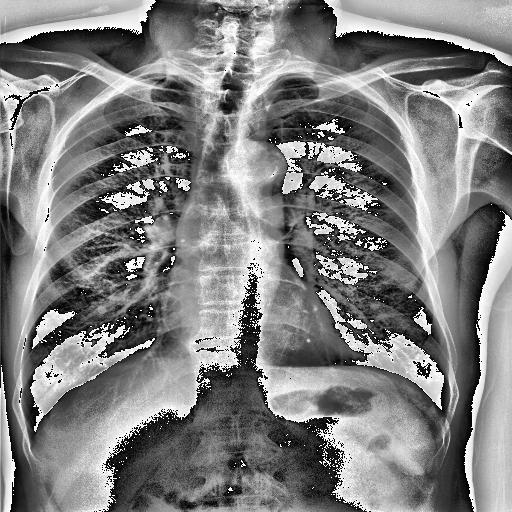0- Aortic enlargement: (220, 138, 286, 190), (231, 142, 287, 200), (233, 139, 285, 182)
11- Pleural thickening: (106, 72, 148, 100), (132, 71, 182, 81), (296, 69, 338, 80)
2- Calcification: (262, 150, 284, 179)
9- Other lesion: (34, 349, 124, 424)
